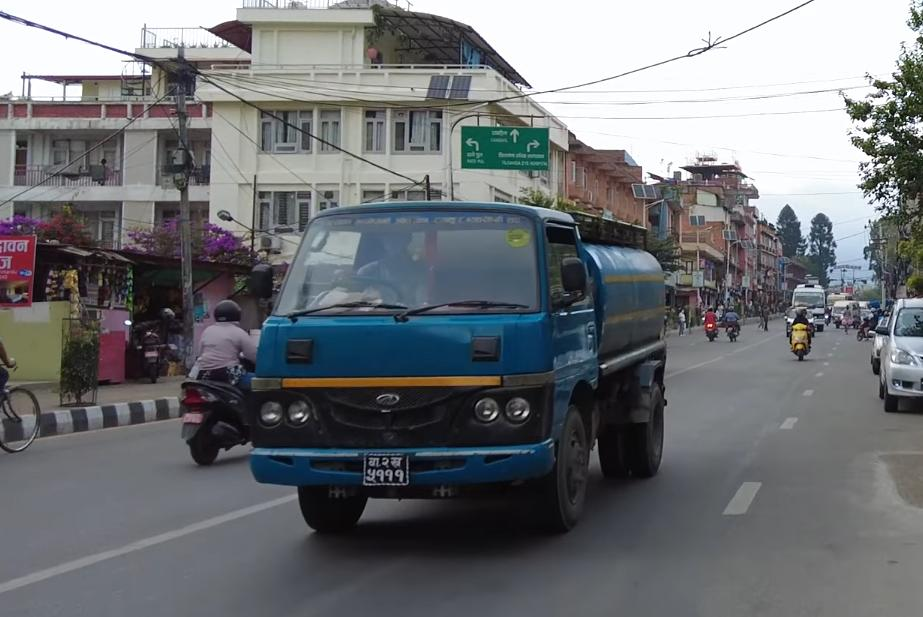bike: (700, 309, 720, 344), (723, 307, 738, 343)
car: (877, 289, 923, 422)
mini_truck: (223, 173, 684, 541)
scooter: (170, 309, 264, 475), (786, 309, 814, 368)
